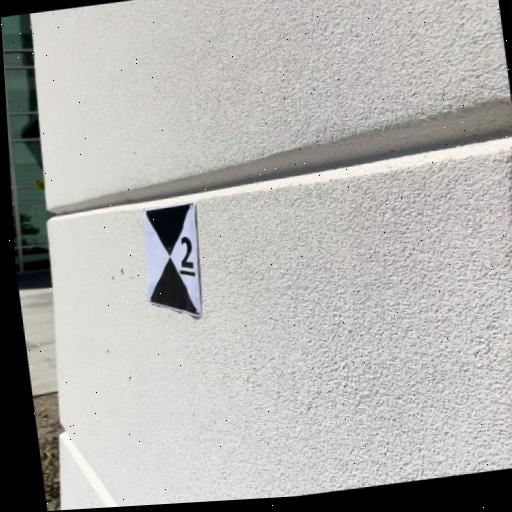target2: (145, 203, 201, 316)
